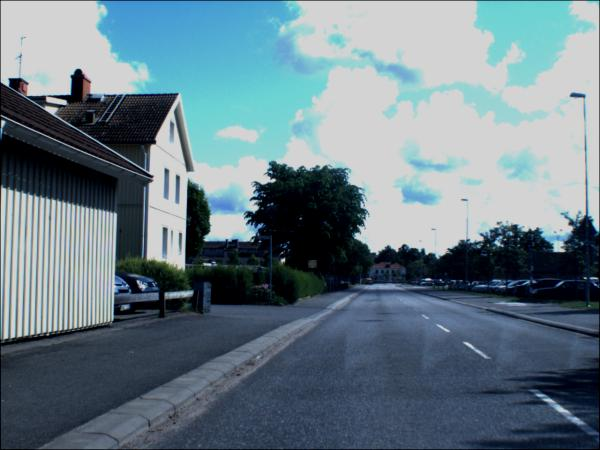PRIORITY_ROAD: (308, 261, 318, 270)
